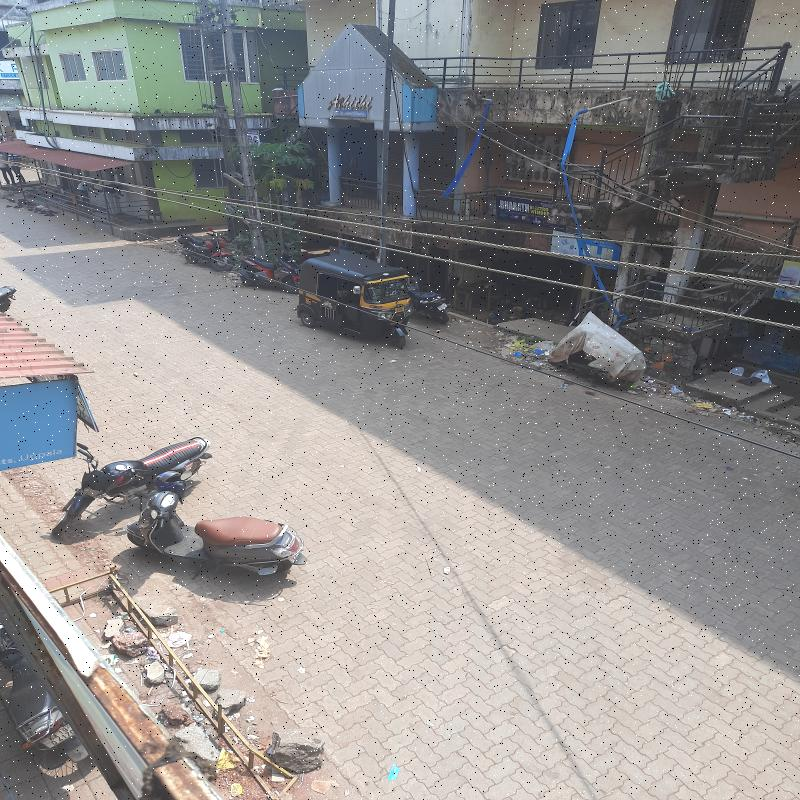auto: (304, 259, 405, 345)
